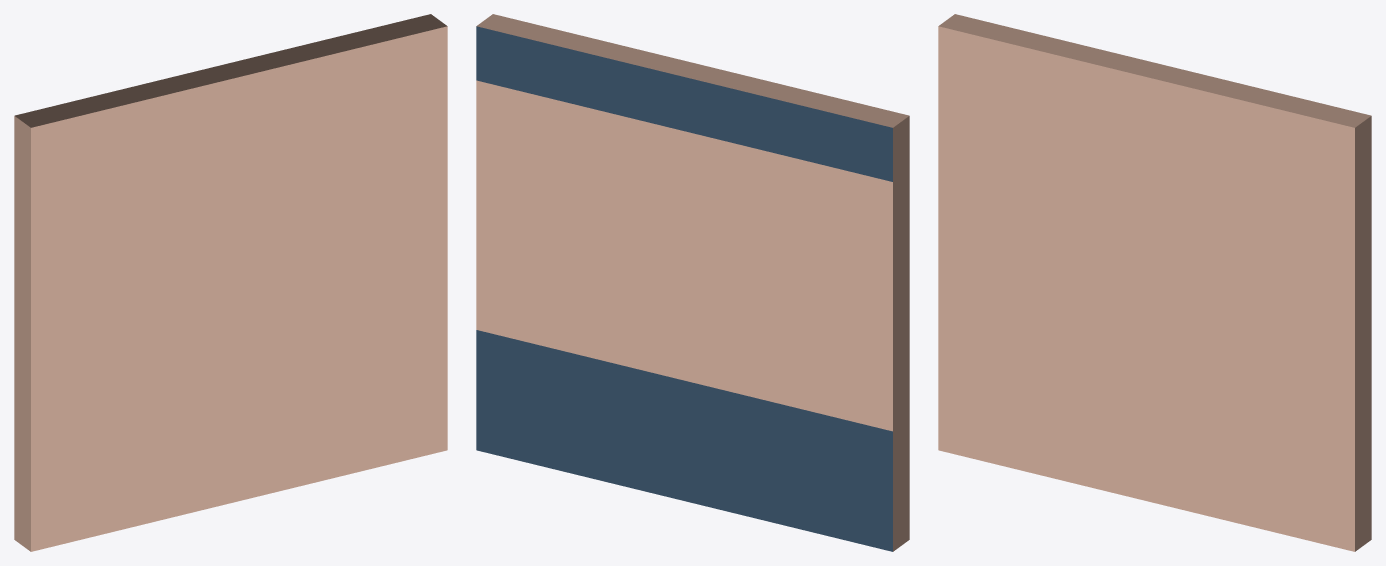
Rendered from Wall 5.fbx.
3 views of the same model, side by side, from view 1: azimuth 30°, elevation 25°; view 2: azimuth 150°, elevation 25°; view 3: azimuth 330°, elevation 25° (orthographic).
Visible parts, largest first — view 1: Wall 5; view 2: Wall 5; view 3: Wall 5.
Boxes of the visible parts, x1=… form: Wall 5: x1=14, y1=14, x2=447, y2=551; Wall 5: x1=476, y1=14, x2=909, y2=551; Wall 5: x1=938, y1=14, x2=1371, y2=551.
Bounding box in the file's own units: 0.3532 × 4.94 × 5.08.
